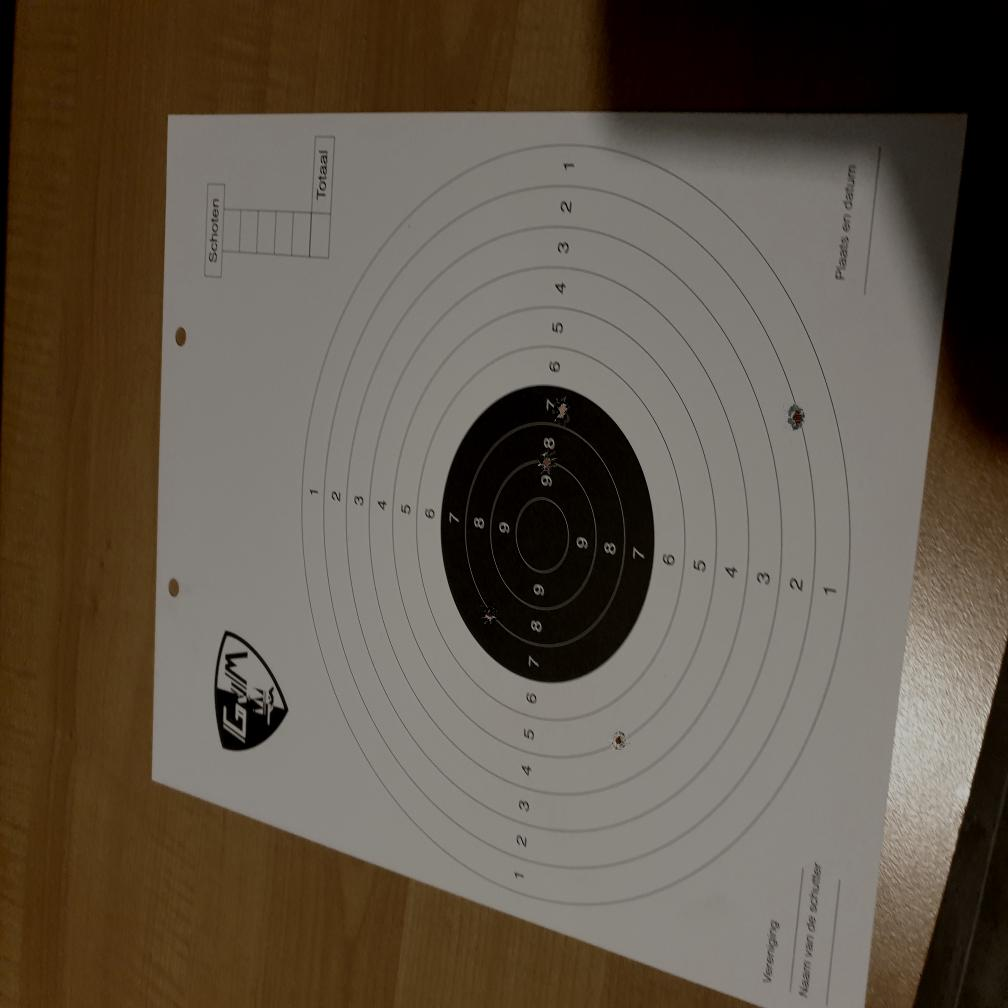2: (786, 404, 805, 434)
5: (610, 730, 632, 751)
7: (550, 394, 572, 424)
8: (479, 596, 499, 625)
9: (537, 448, 557, 474)
Target: (300, 140, 850, 914)
black_contour: (441, 383, 655, 684)
